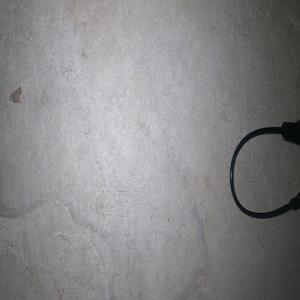Wire: (229, 118, 300, 219)
